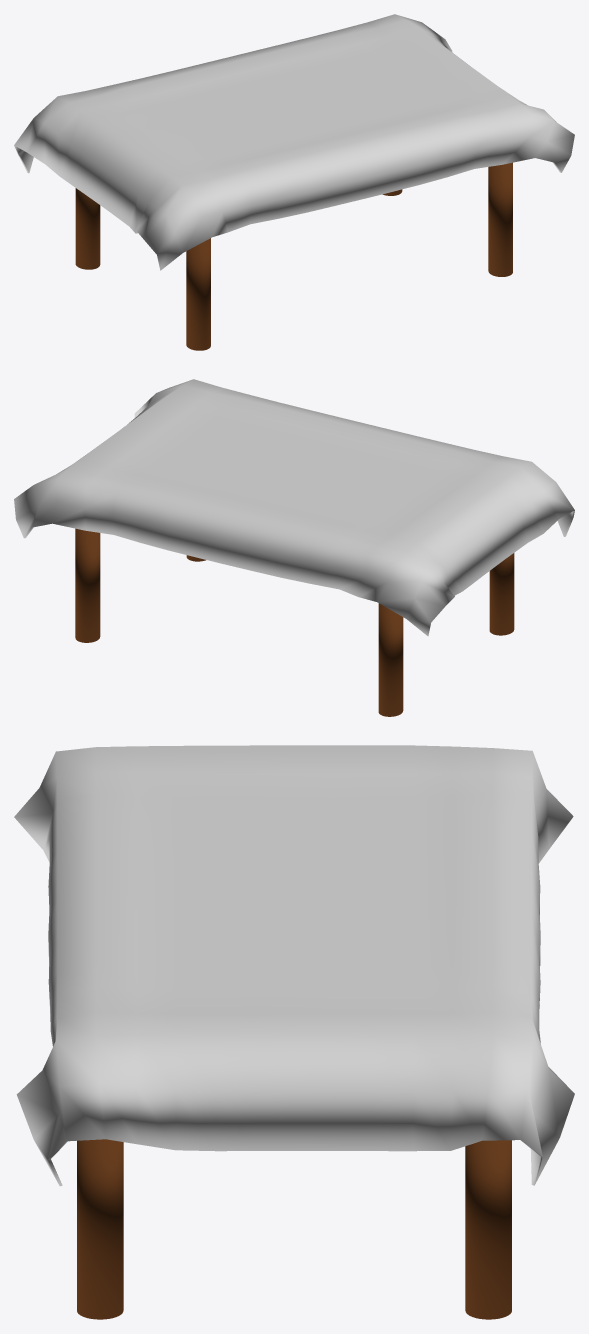
Rendered from Tables.fbx.
The picture shows the model from 3 angles, top to bottom: view 1: azimuth 30°, elevation 25°; view 2: azimuth 150°, elevation 25°; view 3: azimuth 270°, elevation 25°; orthographic projection. The views are drawn at different scales.
Parts seen in each view (by area): view 1: Plane; view 2: Plane; view 3: Plane.
Boxes of the visible parts, bbox=[...] form: Plane: bbox=[14, 14, 574, 350]; Plane: bbox=[14, 379, 574, 716]; Plane: bbox=[14, 745, 574, 1319].
Bounding box in the file's own units: 899 × 332 × 577.
